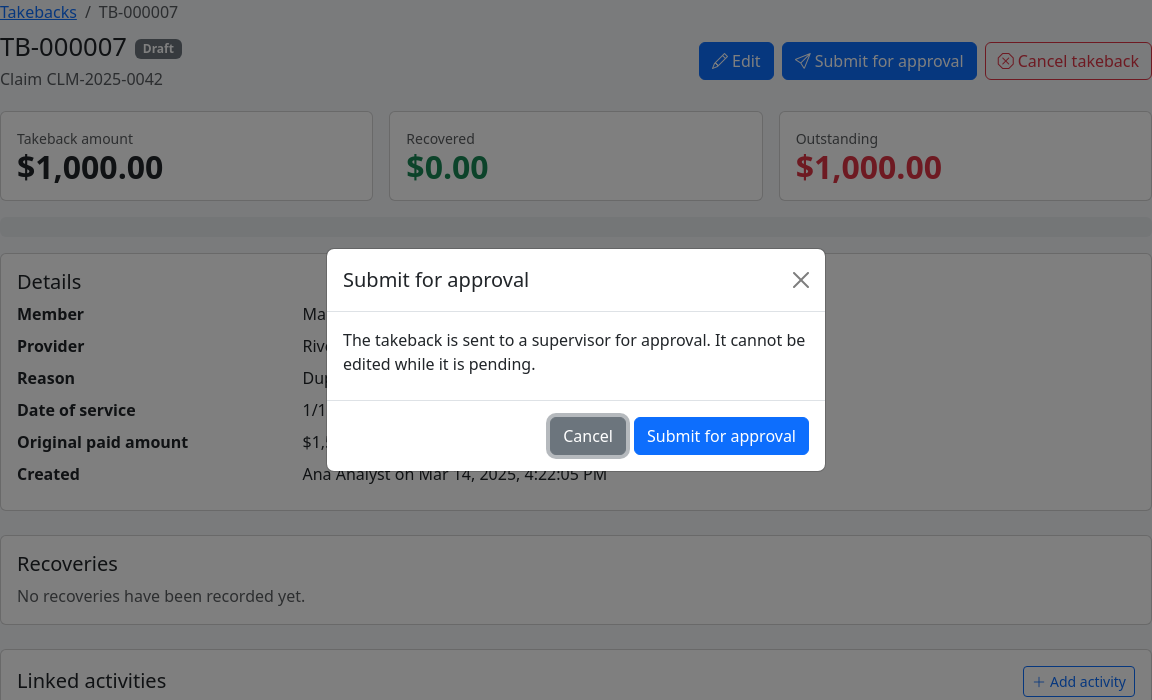
Scenario: TakebackDetailComponent › Submit › sends the takeback id and the rowVersion and shows the returned takeback
The image size is (1152, 700).
Click the button "Submit for approval": (722, 436) [634,417,809,455]
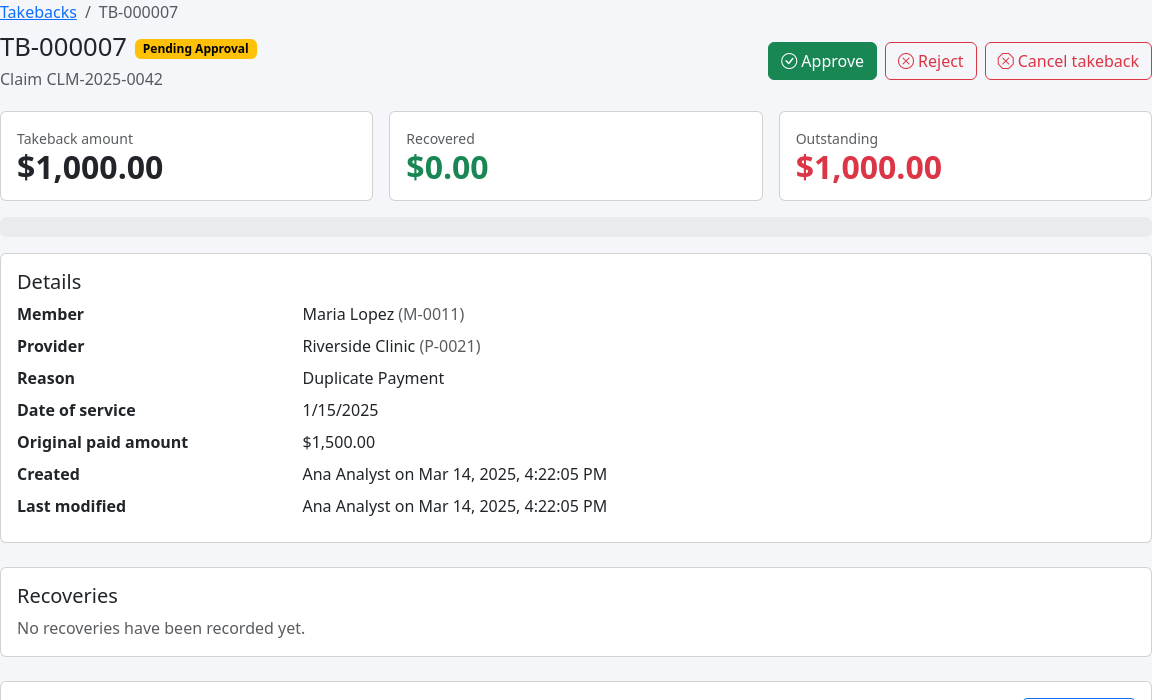
Now the text with class "badge" reads "Pending Approval", box [143,40,249,57]
